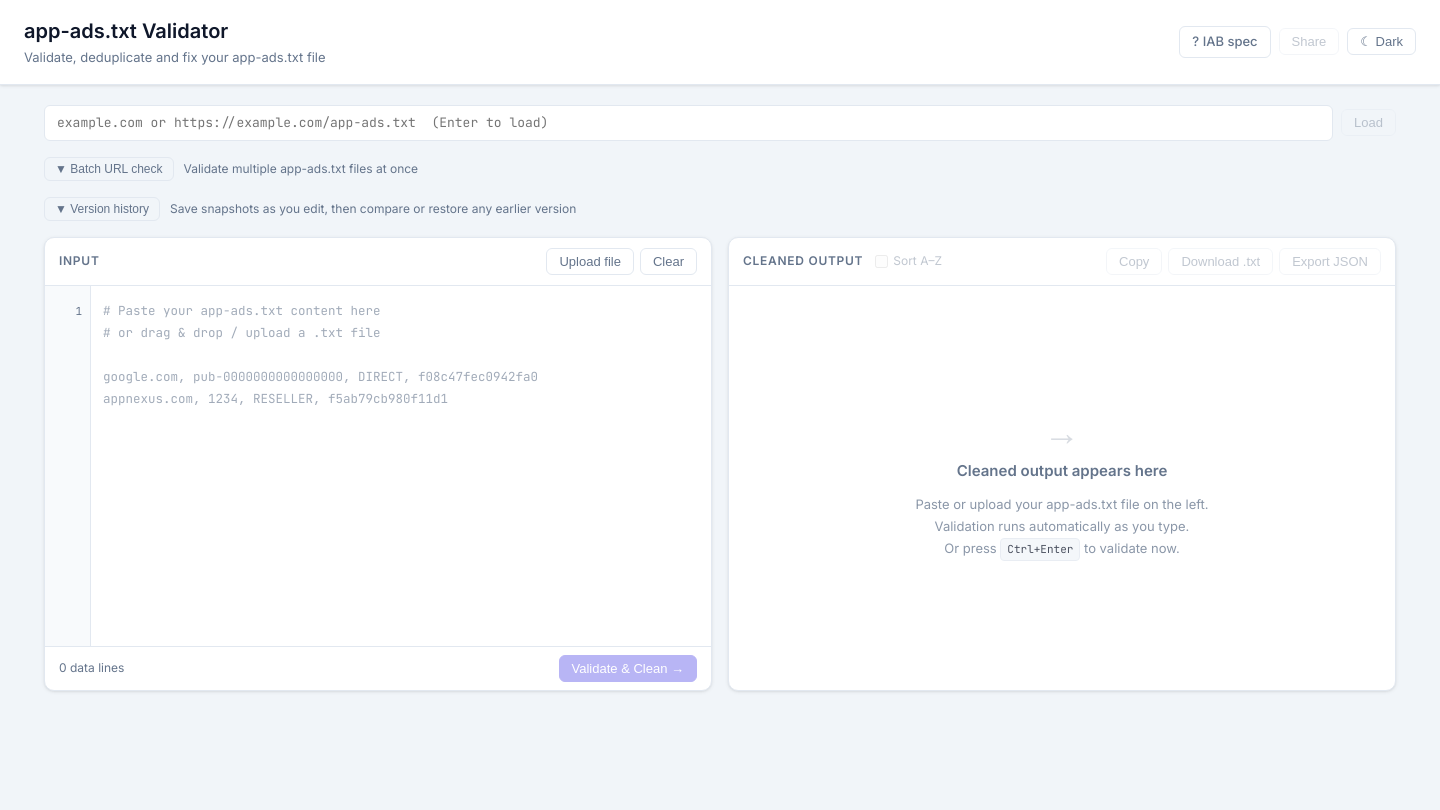
Test: App — accessibility › renders a missing network coverage item as a real button, not a bare clickable div
This screenshot has width=1440, height=810.
Replace the text in the text box named "app-ads.txt input" with "google.com, pub-1, DIRECT" at {"x": 401, "y": 466}, box [91,286,711,646]
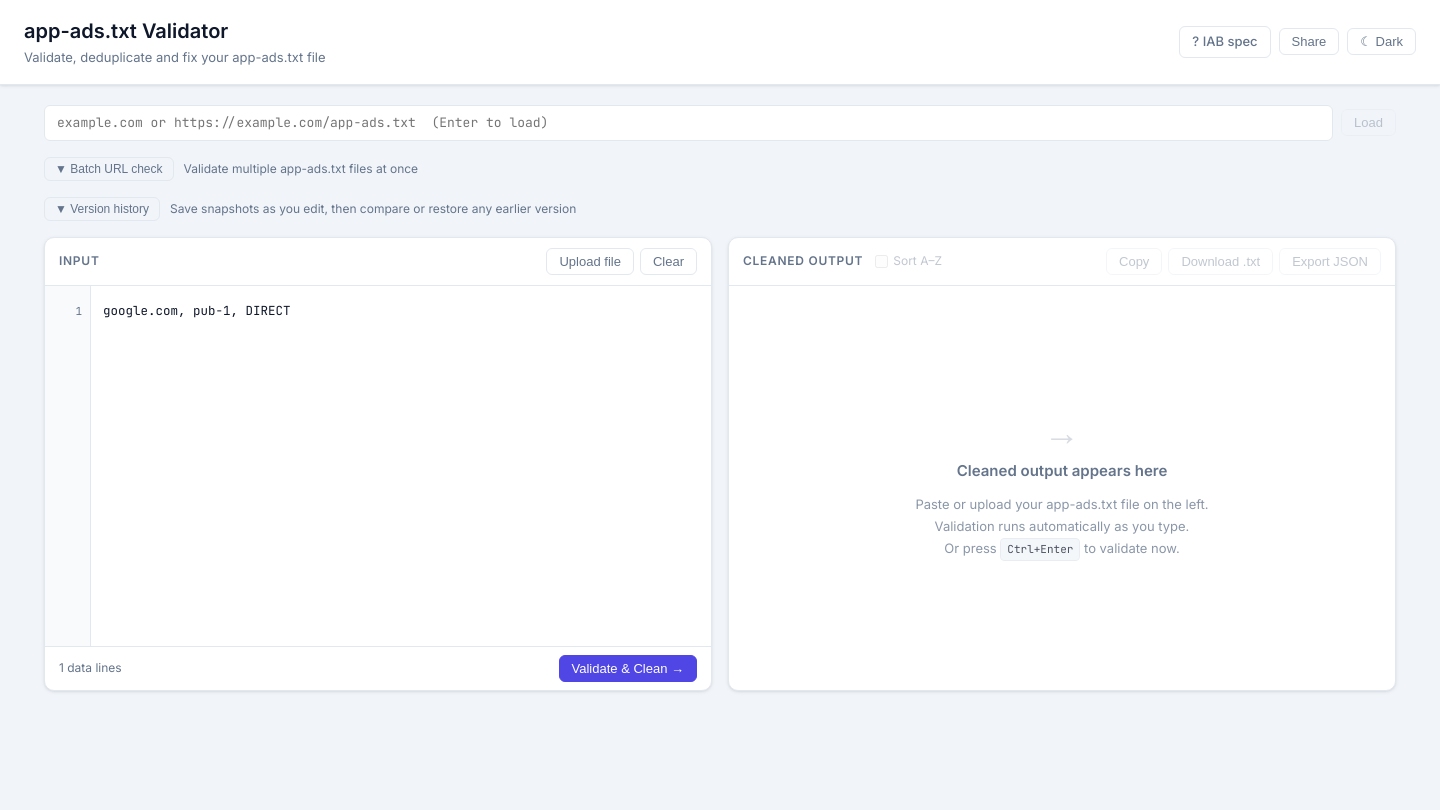
Click the button "Validate & Clean →" at {"x": 628, "y": 668}, box [558,654,697,682]
(page scrolled)
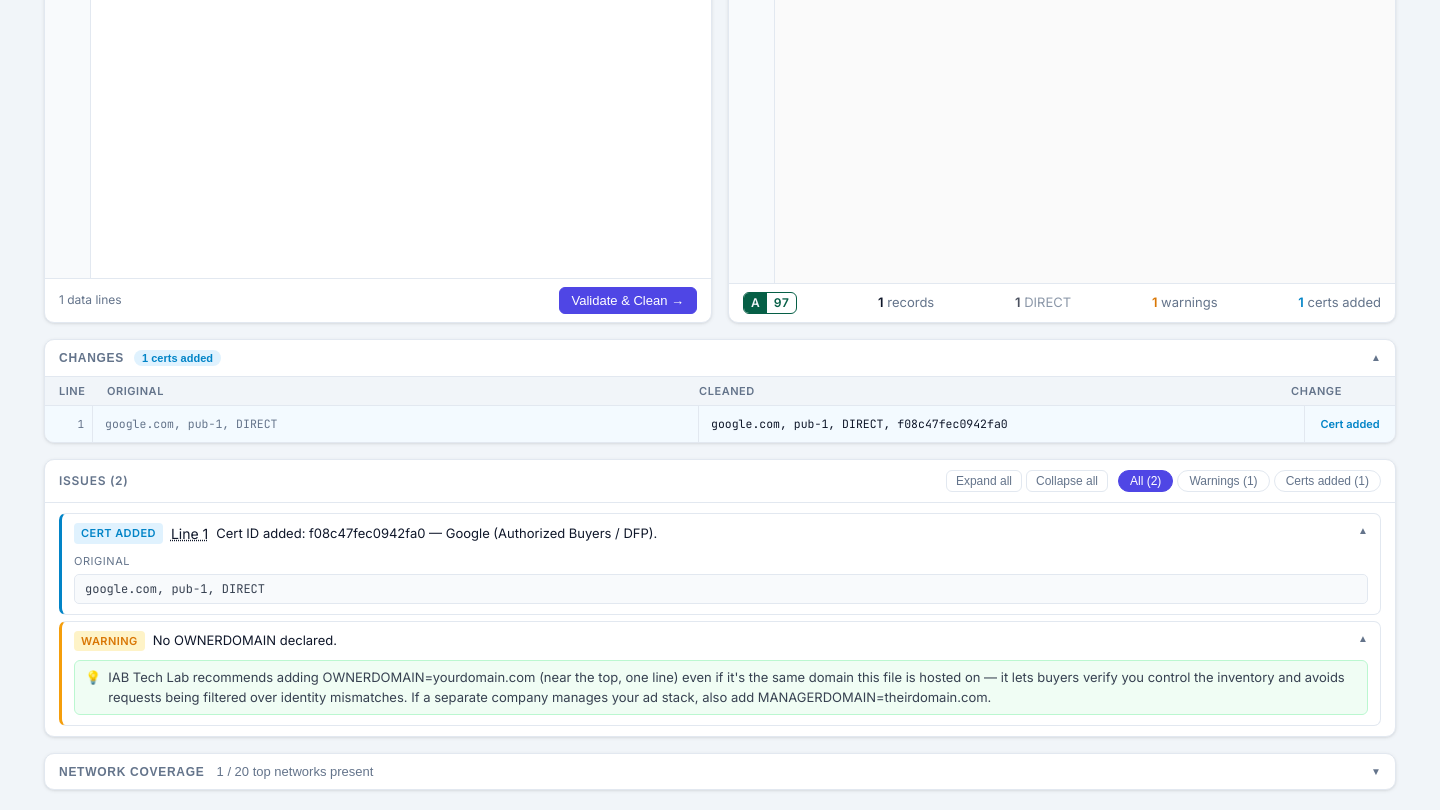
Click the button "Network Coverage 1 / 20 top networks present ▼" at {"x": 132, "y": 772}, box [45,754,1395,789]
(page scrolled)
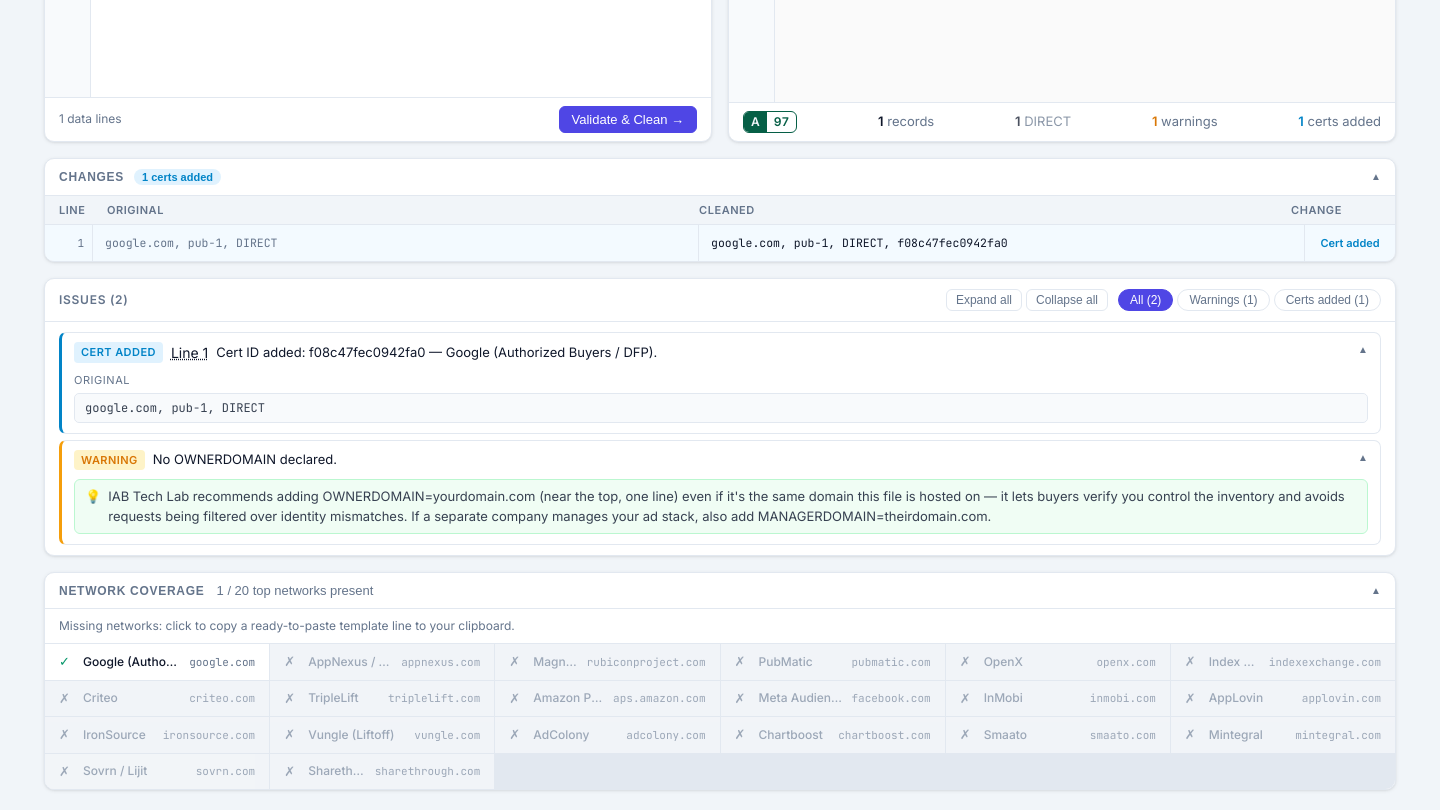
Expected: the button "✗ AppNexus / Xandr appnexus.com" is shown, [270,644,494,680]
